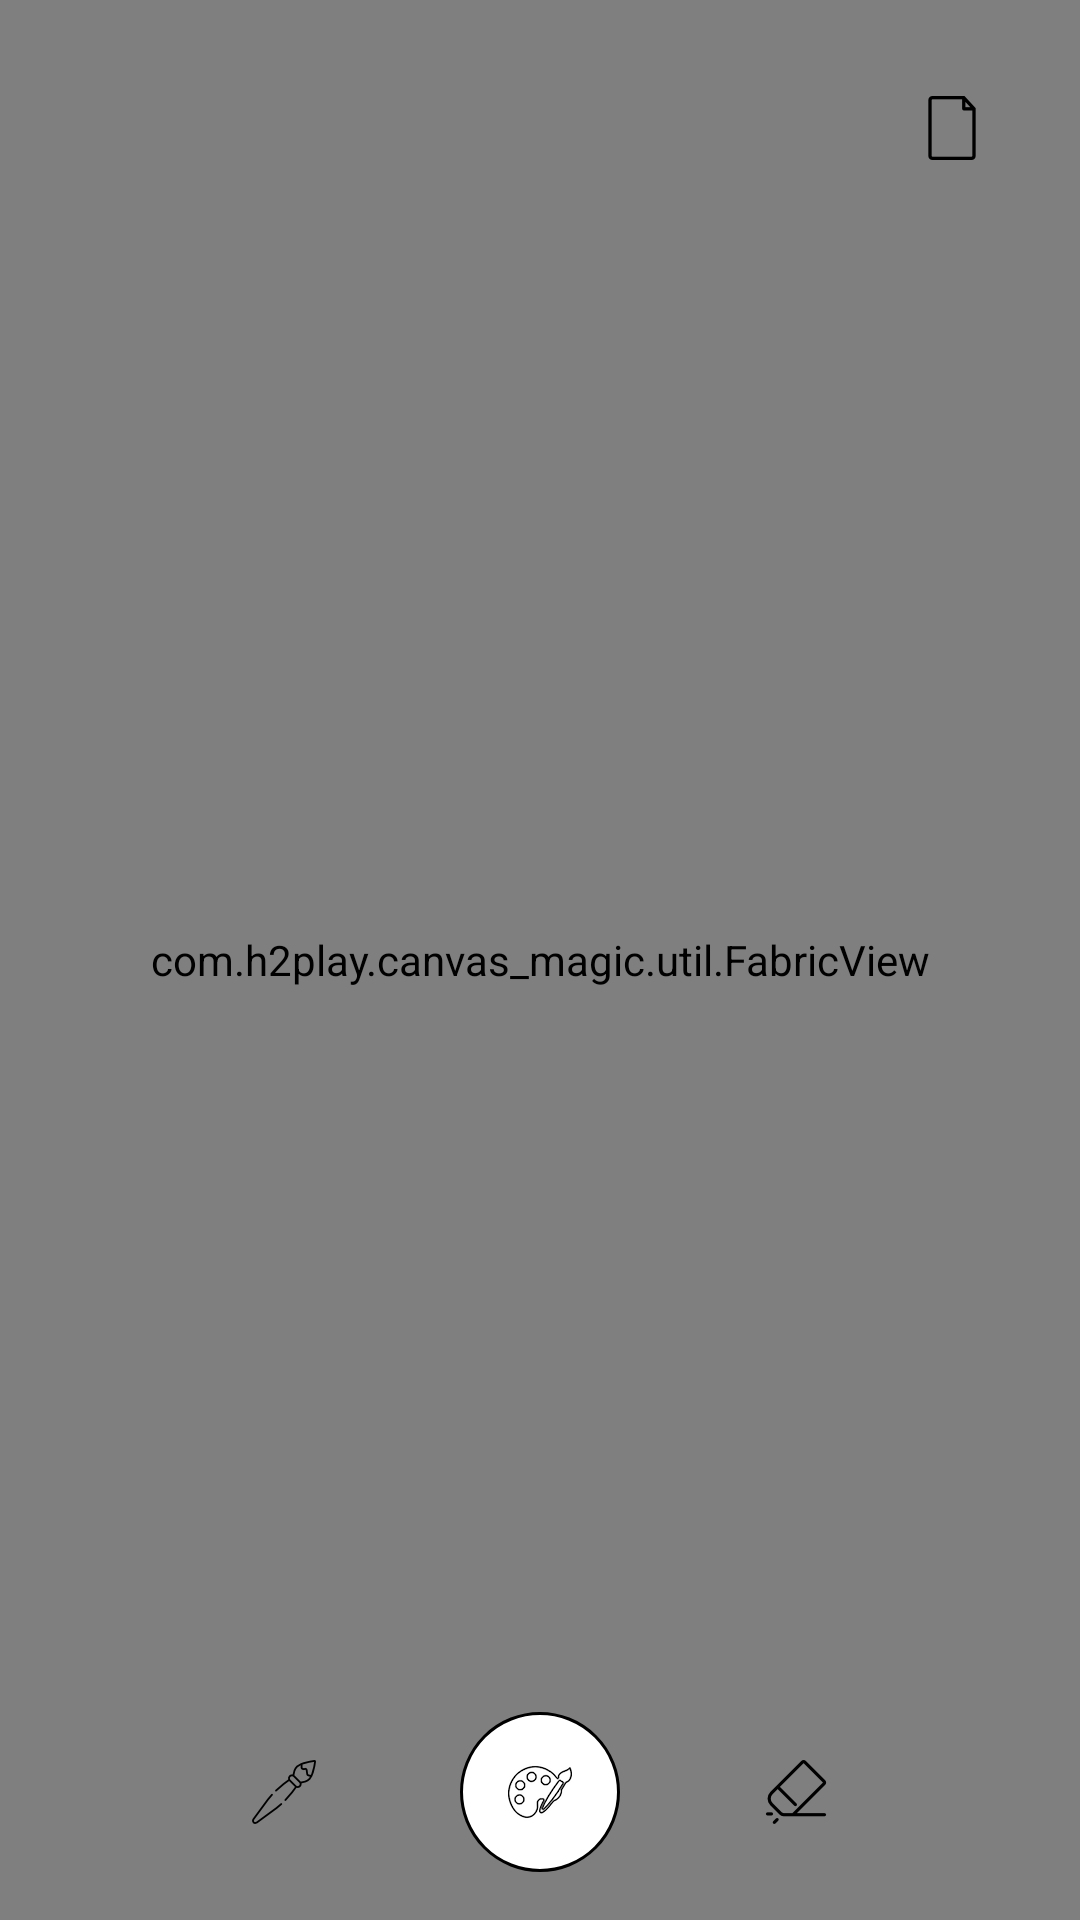

Screen size 1080 × 1920. Icon name, then its box in pixels as (x1, y1, x2, y2):
clear: (928, 96, 976, 160)
eraser: (766, 1760, 826, 1824)
paint brush: (252, 1760, 316, 1824)
pallete: (460, 1712, 620, 1872)
